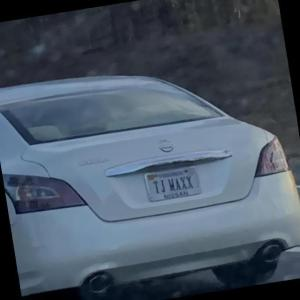Plate: (143, 164, 202, 202)
